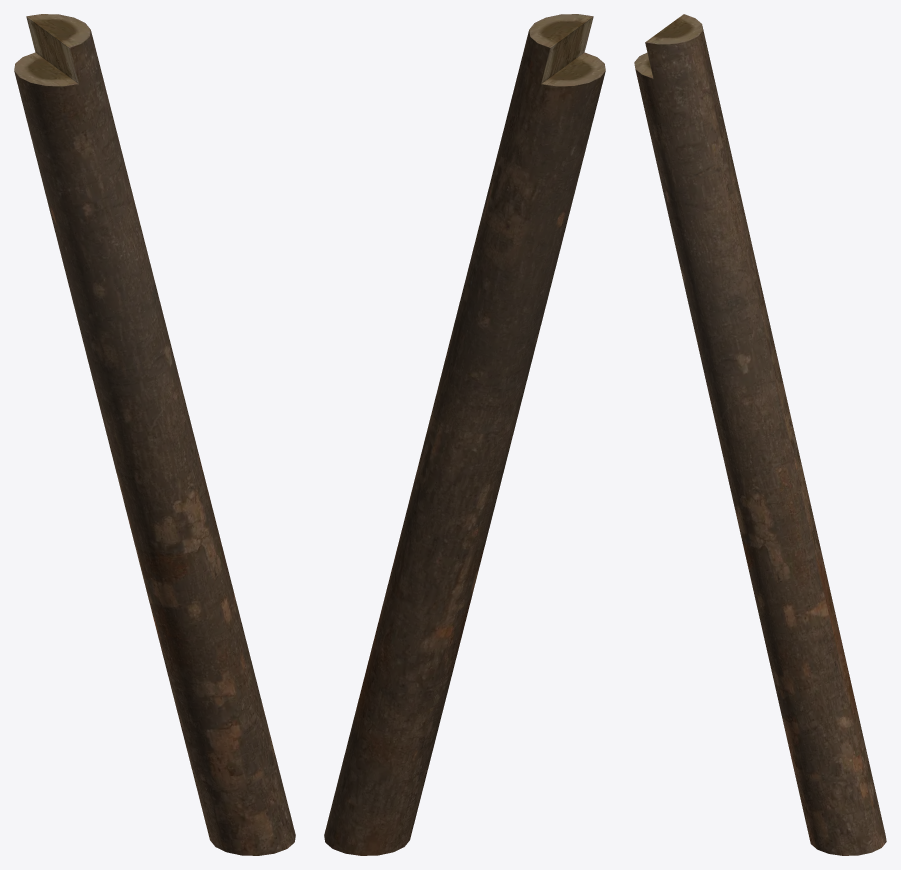
Rendered from ThreeSupportBD.glb.
The picture shows the model from 3 angles, left to right: view 1: azimuth 30°, elevation 25°; view 2: azimuth 150°, elevation 25°; view 3: azimuth 330°, elevation 25°; orthographic projection. The views are drawn at different scales.
Parts seen in each view (by area): view 1: ThreeSupportBD; view 2: ThreeSupportBD; view 3: ThreeSupportBD.
Boxes of the visible parts, bbox=[...] form: ThreeSupportBD: bbox=[14, 14, 295, 855]; ThreeSupportBD: bbox=[324, 14, 605, 855]; ThreeSupportBD: bbox=[634, 14, 886, 855].
Size of the model in its own units: 0.7221 by 2.18 by 0.2.
Materials: 1 (1 with a texture image).
